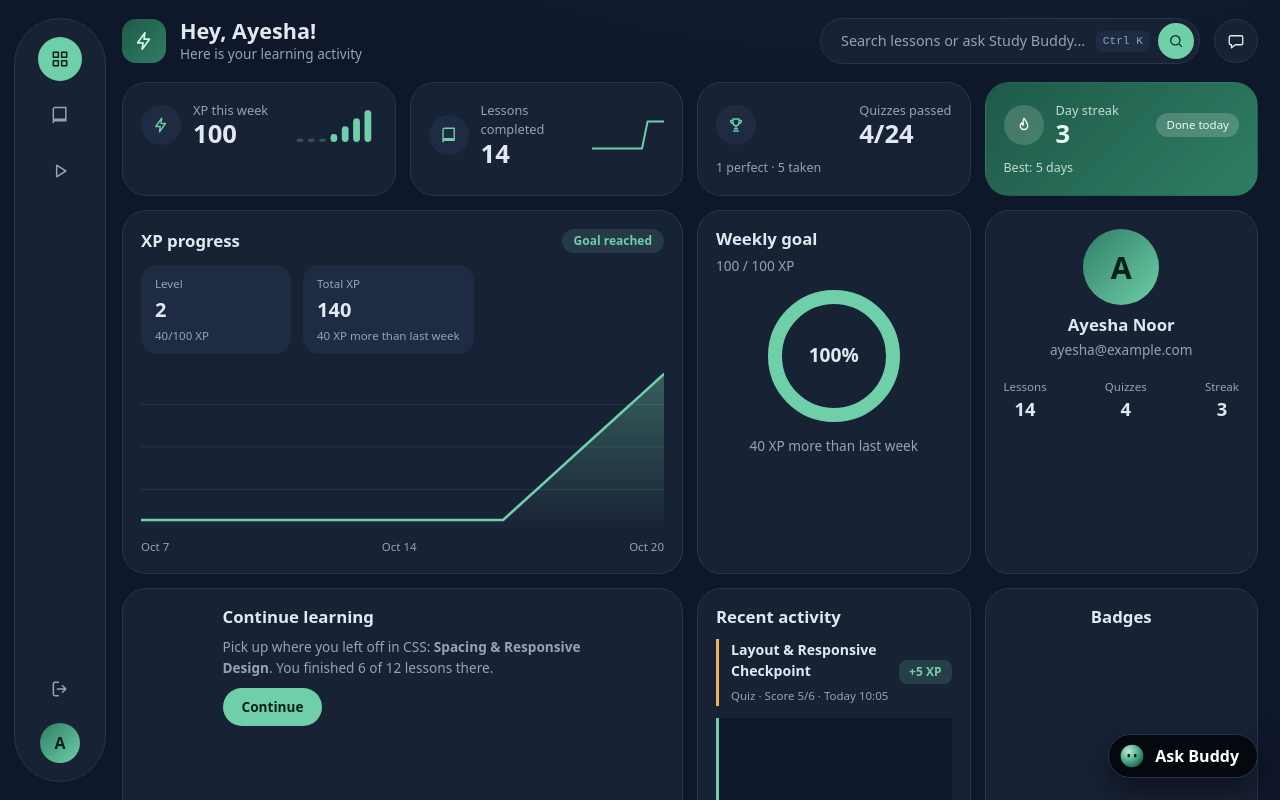
Scenario: dashboard layout (video design, app theme) › the sidebar has labelled links and Log out works
Click the button named "Log out" at (60, 689), box [38, 667, 82, 711]
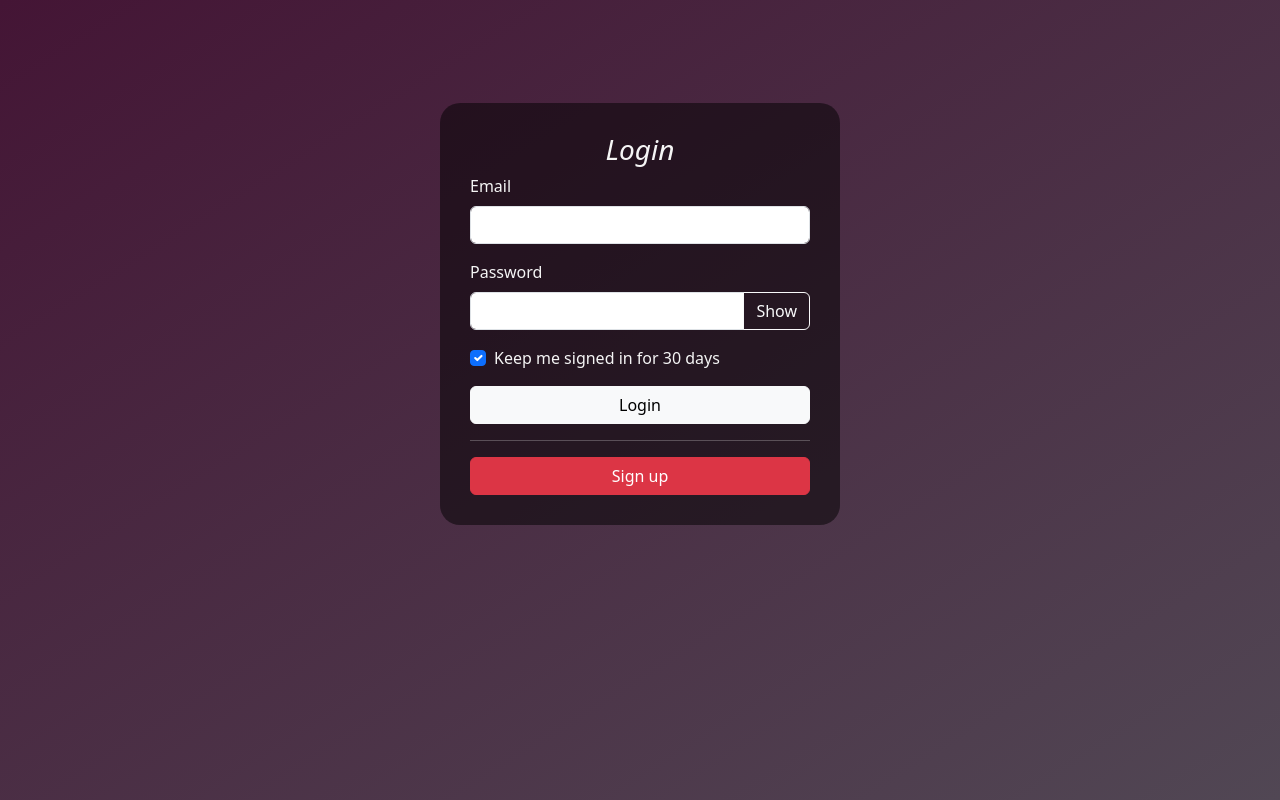
Check: the heading "Login" is shown, box [606, 130, 674, 168]
